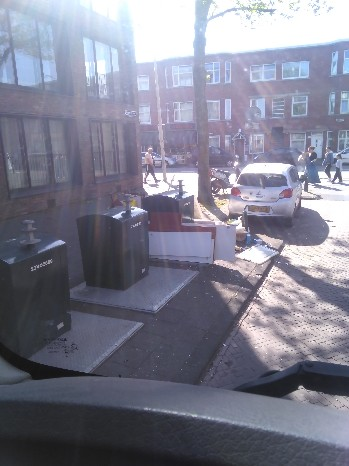Container: (6, 229, 73, 337), (81, 207, 150, 280), (145, 179, 196, 222)
Rest: (148, 227, 232, 272), (203, 208, 251, 256)
Voertuig: (239, 165, 300, 221)
